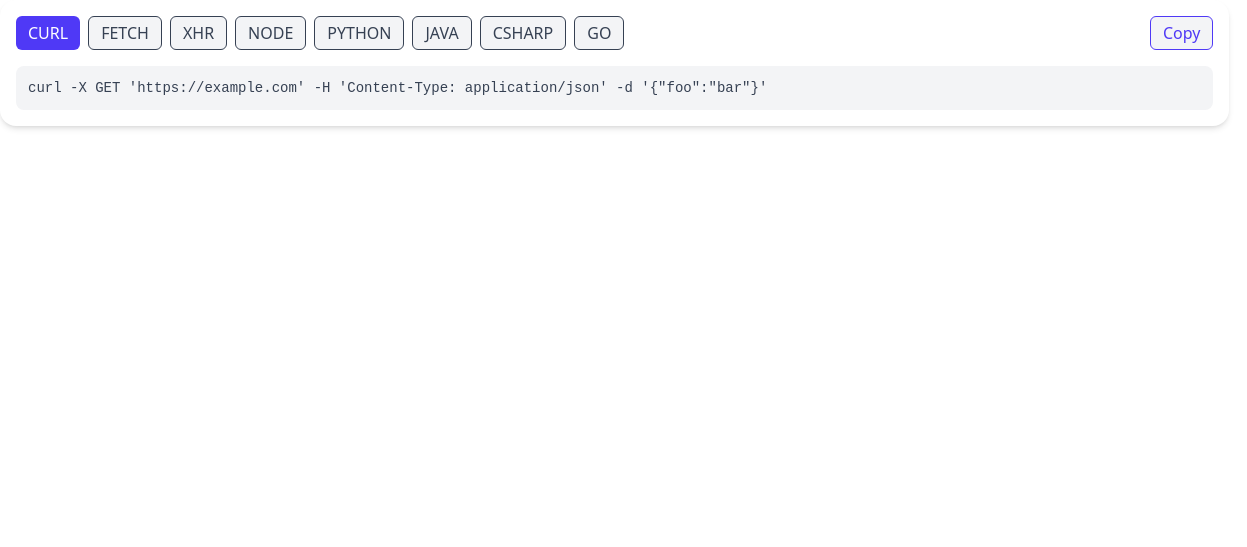
Scenario: CodeGenerator › generates go code
Click the button "GO" at (599, 33), box x1=574 y1=16 x2=624 y2=50
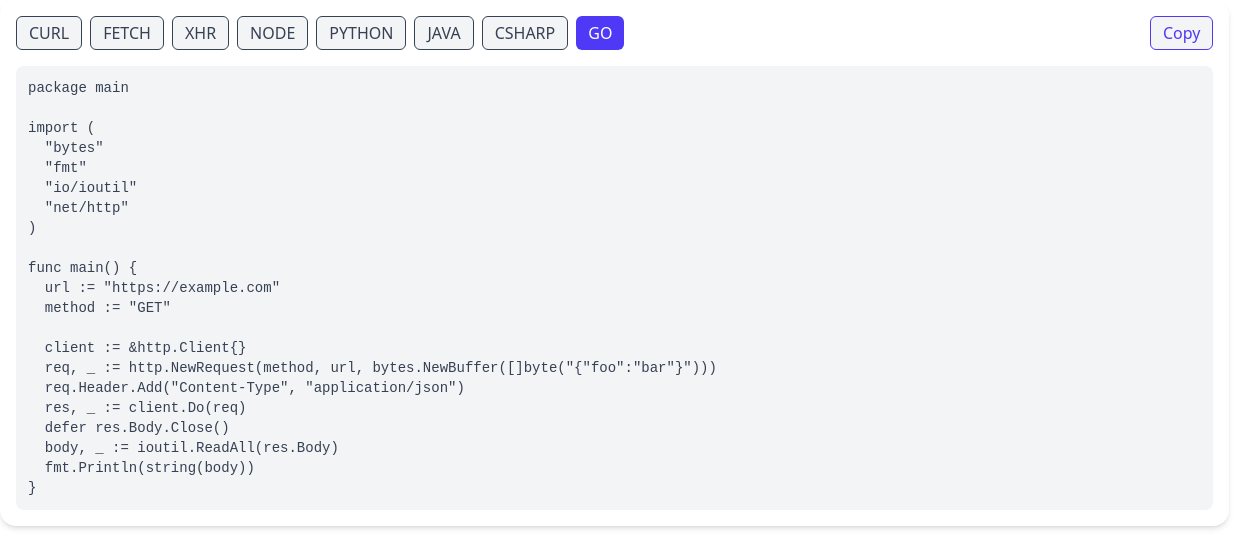
Result: the text "package main" is shown at x1=28 y1=80 x2=717 y2=496
